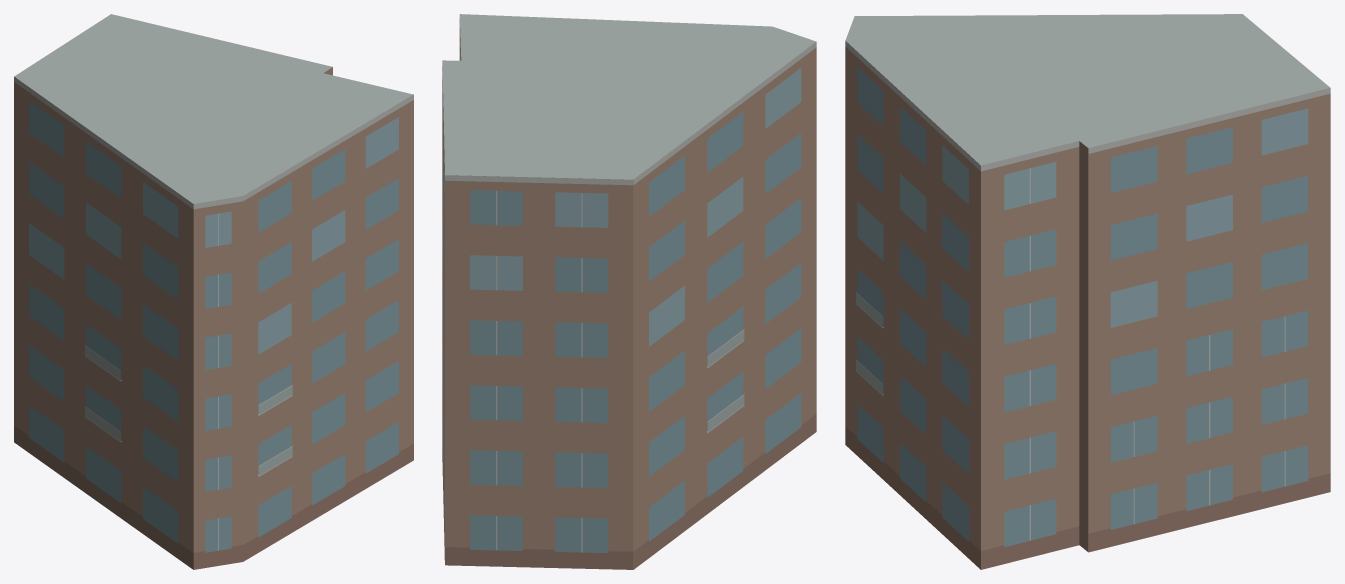
File: survey-upis-32867942.glb
3 views of the same model, side by side, from view 1: azimuth 30°, elevation 25°; view 2: azimuth 150°, elevation 25°; view 3: azimuth 270°, elevation 25° (orthographic). The views are drawn at different scales.
Parts seen in each view (by area): view 1: survey-upis-32867942.tmp; view 2: survey-upis-32867942.tmp; view 3: survey-upis-32867942.tmp.
Part boxes in pixels (x1,y1,x2,y2): survey-upis-32867942.tmp: (14, 14, 413, 569); survey-upis-32867942.tmp: (442, 14, 816, 569); survey-upis-32867942.tmp: (845, 14, 1330, 569).
Size of the model in its own units: 13.69 by 17 by 18.5.
